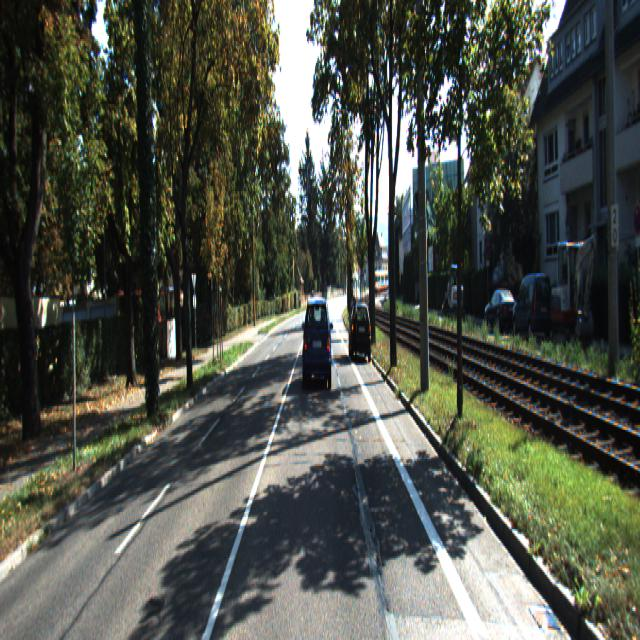Car: (551, 237, 584, 345), (512, 271, 555, 343), (303, 301, 333, 399), (485, 286, 521, 334), (348, 300, 372, 362), (450, 264, 463, 316)
